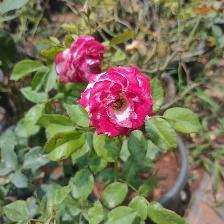rose: (80, 65, 157, 141), (58, 38, 105, 86)
